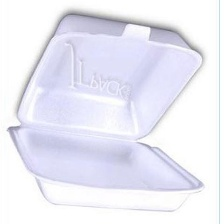foam_box: (3, 11, 210, 217)
